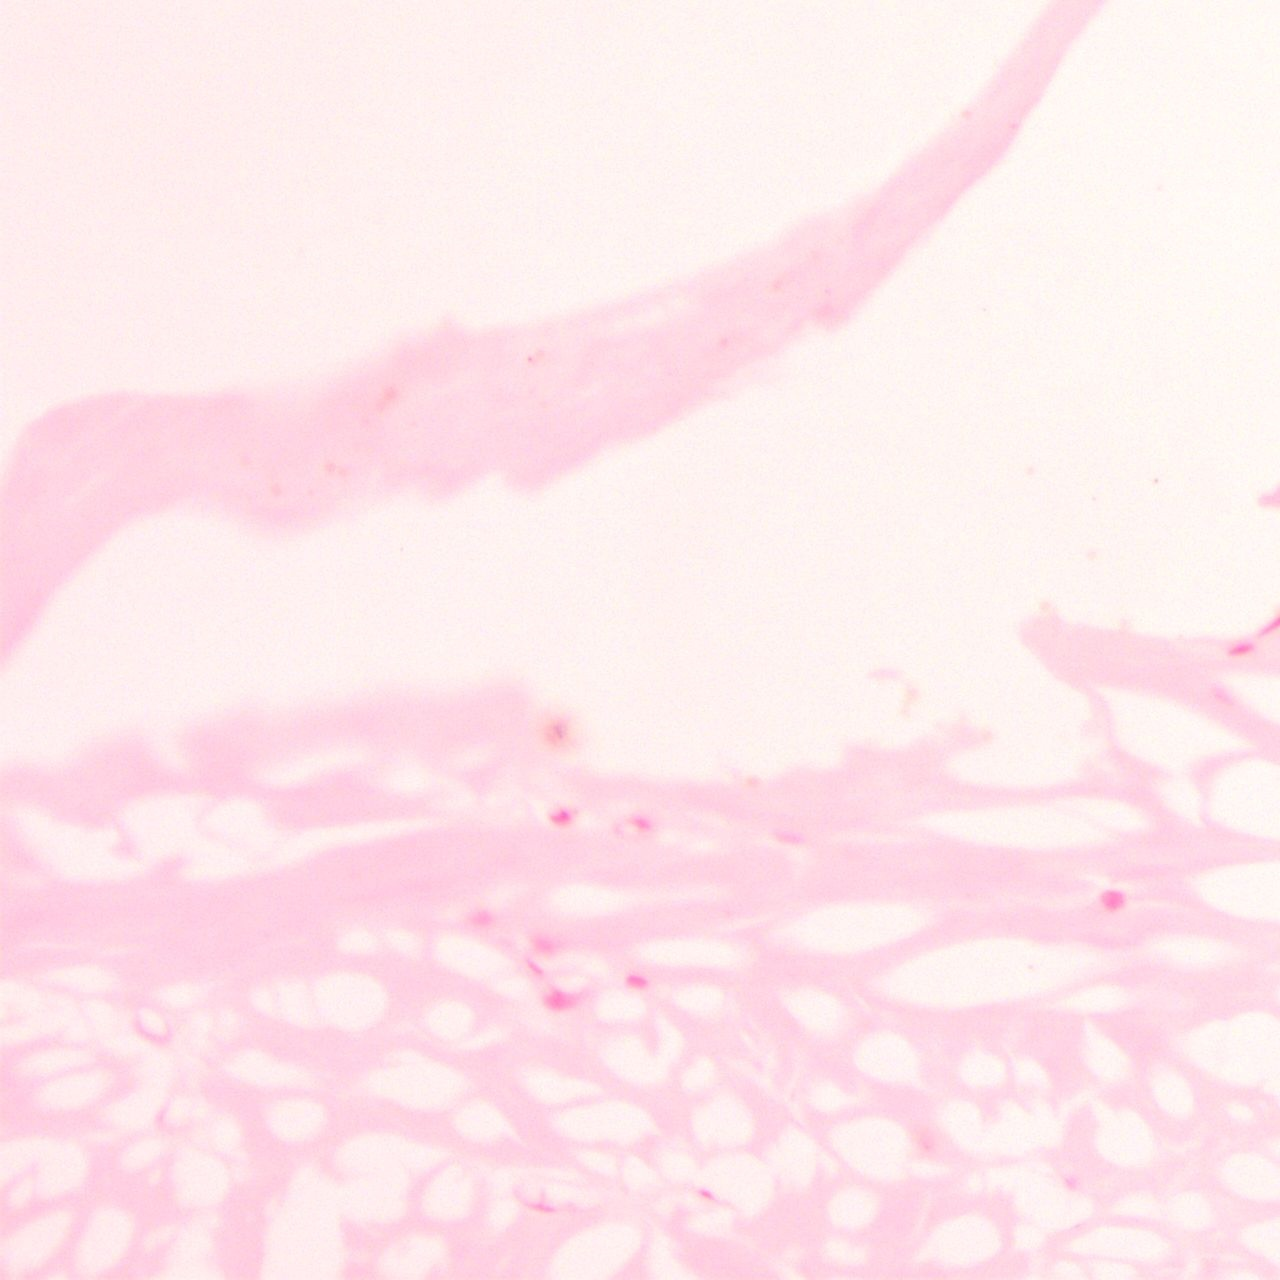dust: (527, 356, 533, 363)
nucleus-AC: (538, 986, 584, 1014), (627, 811, 660, 838), (1097, 888, 1123, 913), (626, 972, 651, 992), (549, 809, 576, 824), (1228, 642, 1253, 656)
